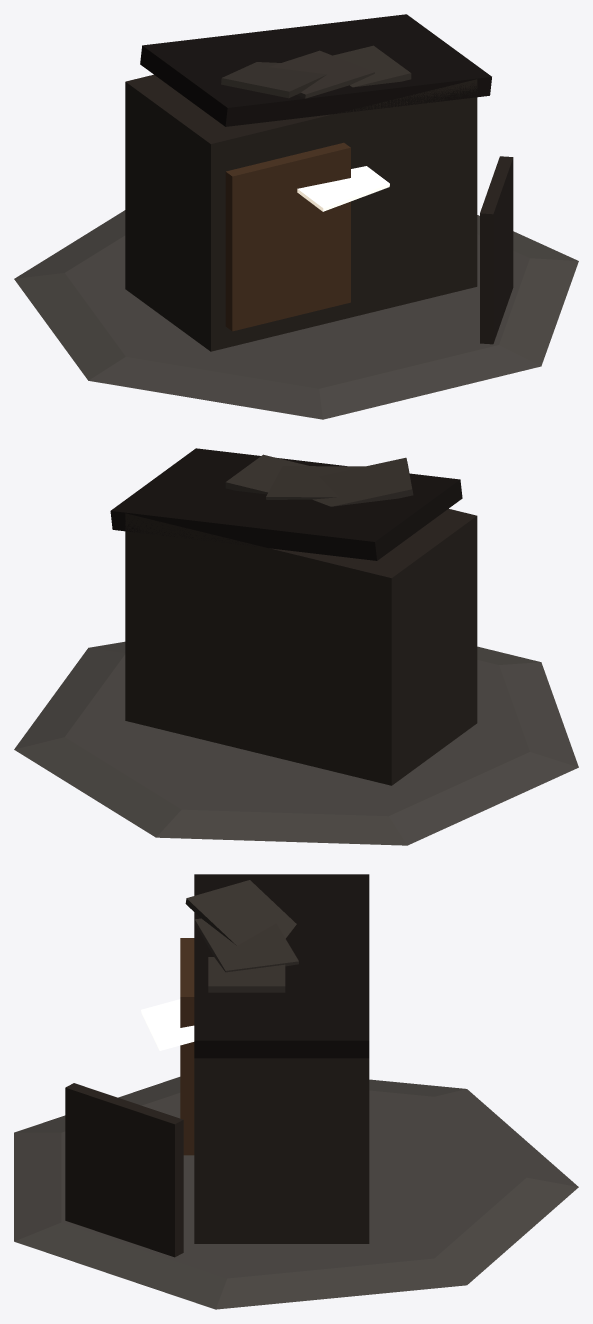
The model's file is prop_burnt_cabinet.glb.
3 renders of one model, top to bottom at view 1: azimuth 30°, elevation 25°; view 2: azimuth 150°, elevation 25°; view 3: azimuth 270°, elevation 25°, orthographic. The views are drawn at different scales.
Parts seen in each view (by area): view 1: prop_burnt_cabinet; view 2: prop_burnt_cabinet; view 3: prop_burnt_cabinet.
Part boxes in pixels (x1,y1,x2,y2): prop_burnt_cabinet: [14, 14, 578, 419]; prop_burnt_cabinet: [14, 448, 578, 845]; prop_burnt_cabinet: [14, 874, 578, 1309].
Bounding box in the file's own units: 1.66 × 0.8696 × 1.62.
